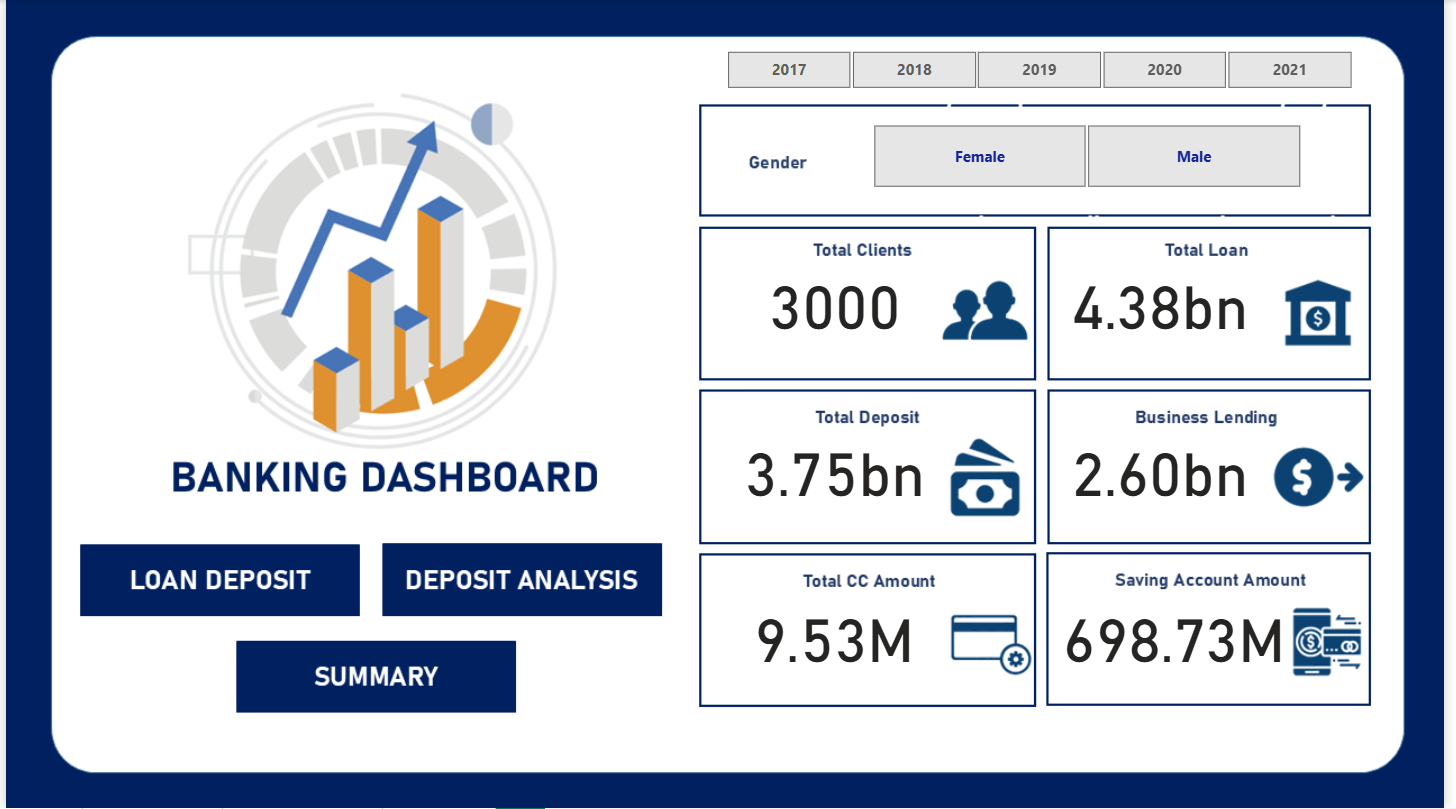

Layout of this report page (visuals, bound fields, positions):
{"tool":"powerbi","page":{"name":"Home","canvas":[1280,720],"ordinal":0},"visuals":[{"type":"card","fields":{"Values":["banking-clients.Credit Card Balance"]},"box":[634.6,501.9,206.3,123.1],"z":0},{"type":"card","fields":{"Values":["banking-clients.Saving Accounts"]},"box":[933,520.5,214.8,85.3],"z":1000},{"type":"card","fields":{"Values":["banking-clients.Total Loan"]},"box":[920.5,224.4,214.7,84.5],"z":2000},{"type":"card","fields":{"Values":["banking-clients.Name"]},"box":[631,224.4,214.7,84.5],"z":3000},{"type":"card","fields":{"Values":["banking-clients.Total deposit"]},"box":[631,372.8,214.7,85.7],"z":4000},{"type":"card","fields":{"Values":["banking-clients.Business Lending"]},"box":[920.5,372.8,214.7,85.7],"z":5000},{"type":"slicer","fields":{"Values":["banking-clients.GenderId"]},"box":[746.8,105,429.5,68.8],"z":6000},{"type":"actionButton","box":[88.1,501.9,208.7,31.4],"z":7000},{"type":"actionButton","box":[347.4,504.5,235,31.7],"z":8000},{"type":"actionButton","box":[207.6,573.7,235,50.5],"z":9000},{"type":"slicer","fields":{"Values":["banking-clients.Year"]},"box":[616.9,38.9,605.4,46.1],"z":10000}]}

Visuals, with their boxes in screenshot pixels (x1, y1, x2, y2), scaled from the page's 1280x720 canvas onto the 1456x809 screenshot:
card - banking-clients.Credit Card Balance: <box>722,564,957,702</box>
card - banking-clients.Saving Accounts: <box>1061,585,1306,681</box>
card - banking-clients.Total Loan: <box>1047,252,1291,347</box>
card - banking-clients.Name: <box>718,252,962,347</box>
card - banking-clients.Total deposit: <box>718,419,962,515</box>
card - banking-clients.Business Lending: <box>1047,419,1291,515</box>
slicer - banking-clients.GenderId: <box>849,118,1338,195</box>
actionButton: <box>100,564,338,599</box>
actionButton: <box>395,567,662,602</box>
actionButton: <box>236,645,503,701</box>
slicer - banking-clients.Year: <box>702,44,1390,96</box>
